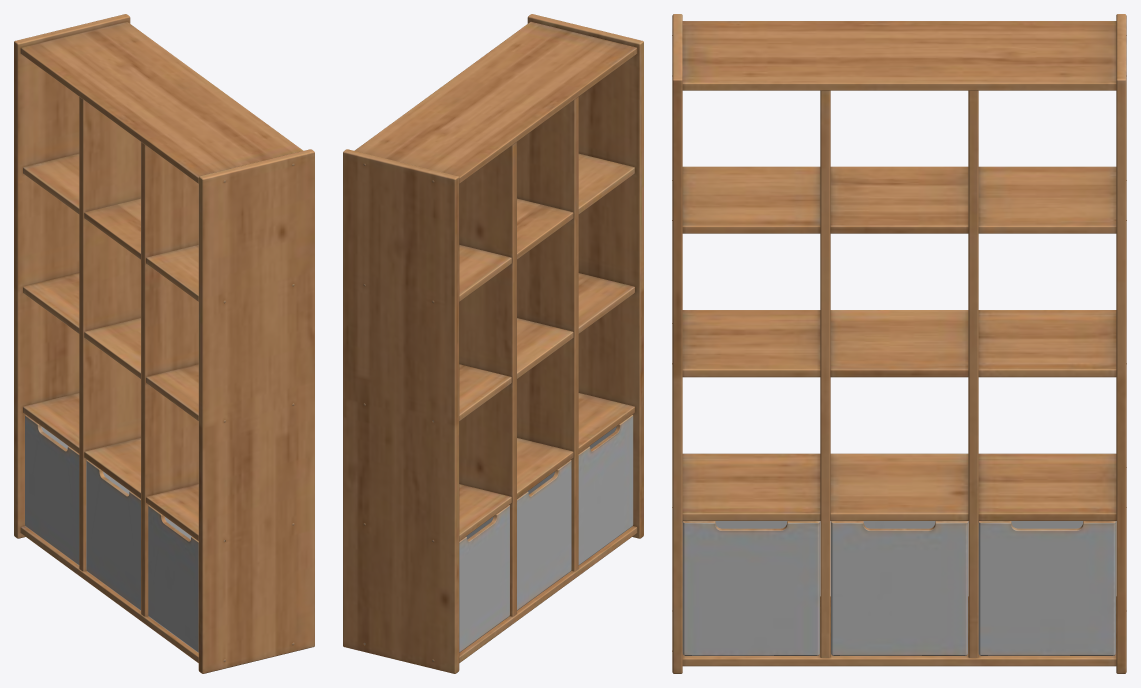
File: wooden_display_shelves_01_512.gltf
3 renders of one model, left to right at view 1: azimuth 30°, elevation 25°; view 2: azimuth 150°, elevation 25°; view 3: azimuth 270°, elevation 25°, orthographic. The views are drawn at different scales.
Parts seen in each view (by area): view 1: wooden_display_shelves_01, wooden_display_shelves_01_drawer_01, wooden_display_shelves_01_drawer_02, wooden_display_shelves_01_drawer_03; view 2: wooden_display_shelves_01, wooden_display_shelves_01_drawer_03, wooden_display_shelves_01_drawer_02, wooden_display_shelves_01_drawer_01; view 3: wooden_display_shelves_01, wooden_display_shelves_01_drawer_03, wooden_display_shelves_01_drawer_01, wooden_display_shelves_01_drawer_02.
Part boxes in pixels (x1,y1,x2,y2): wooden_display_shelves_01: (14, 14, 314, 673); wooden_display_shelves_01_drawer_01: (25, 415, 79, 565); wooden_display_shelves_01_drawer_02: (86, 460, 140, 610); wooden_display_shelves_01_drawer_03: (148, 505, 198, 652); wooden_display_shelves_01: (343, 14, 643, 673); wooden_display_shelves_01_drawer_03: (578, 415, 633, 565); wooden_display_shelves_01_drawer_02: (517, 460, 571, 610); wooden_display_shelves_01_drawer_01: (459, 505, 509, 652); wooden_display_shelves_01: (672, 14, 1126, 673); wooden_display_shelves_01_drawer_03: (682, 521, 819, 655); wooden_display_shelves_01_drawer_01: (978, 521, 1115, 655); wooden_display_shelves_01_drawer_02: (831, 521, 967, 655).
Size of the model in its own units: 0.3715 by 1.56 by 1.08.
Materials: 1 (1 with a texture image).
